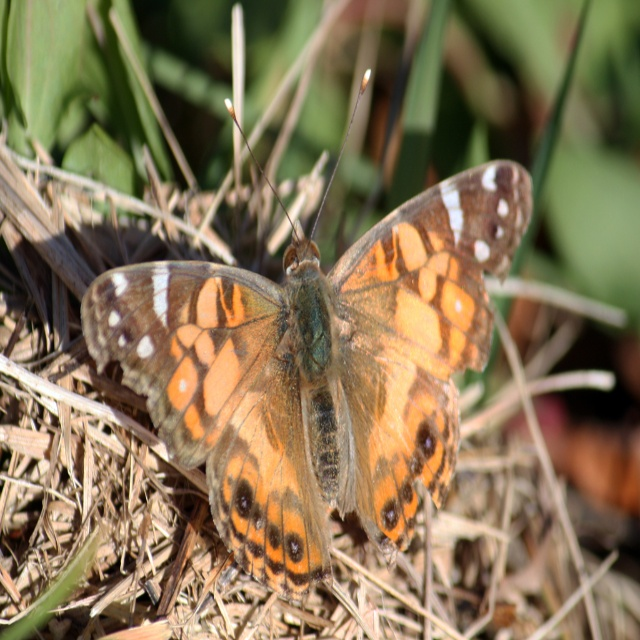Butterfly: (80, 68, 532, 600)
